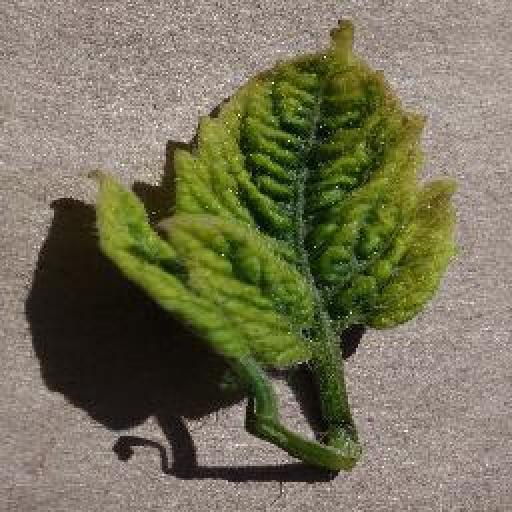disease_tomato: (88, 15, 453, 372)
